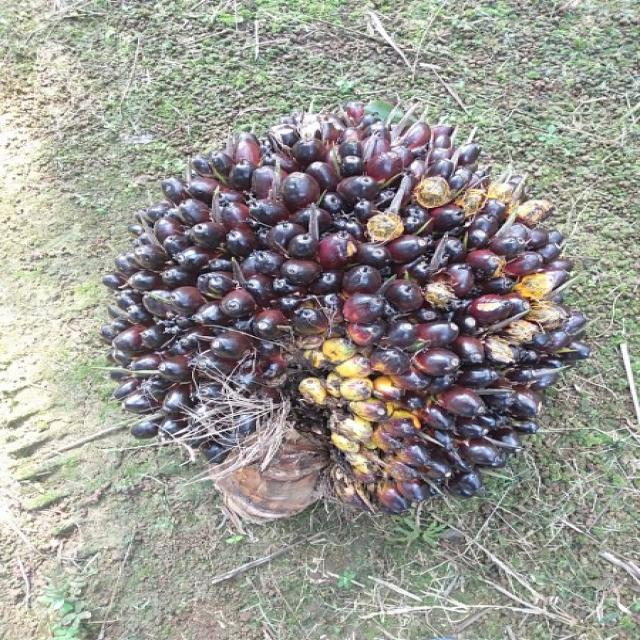fraksi 00: (47, 80, 608, 551)
